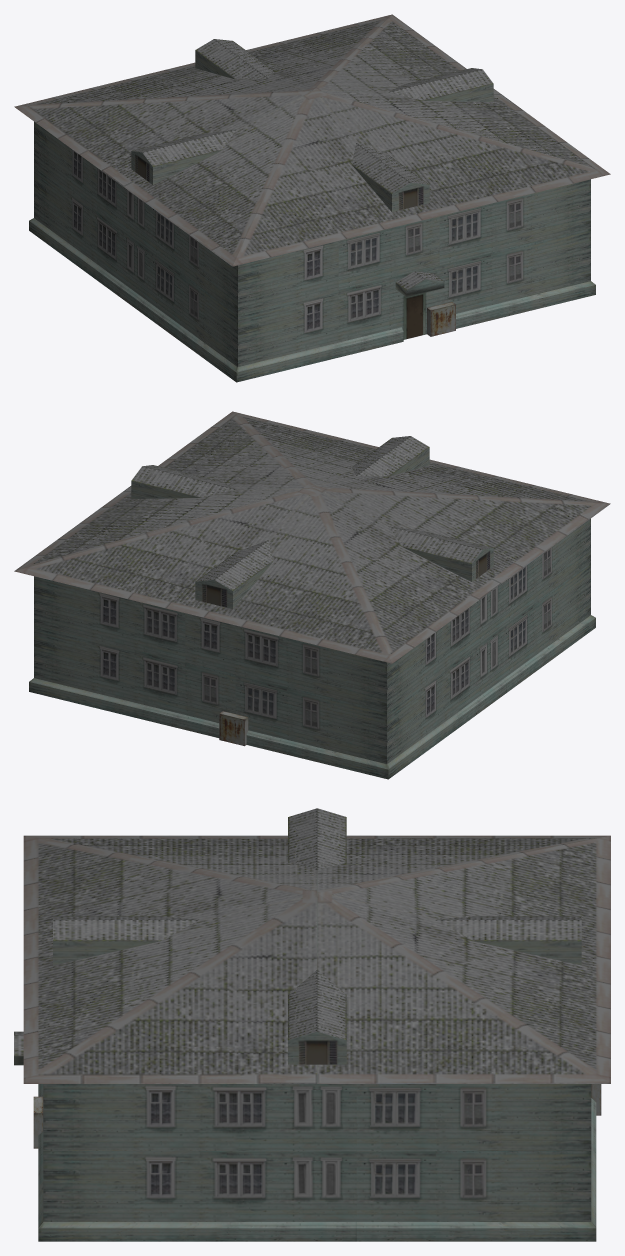
The model's file is rus_build_2et_01c.fbx.
3 views of the same model, one above another, from view 1: azimuth 30°, elevation 25°; view 2: azimuth 150°, elevation 25°; view 3: azimuth 270°, elevation 25° (orthographic). The views are drawn at different scales.
Visible parts, largest first — view 1: Regroup13; view 2: Regroup13; view 3: Regroup13.
Boxes of the visible parts, bbox=[...] form: Regroup13: bbox=[14, 14, 610, 382]; Regroup13: bbox=[14, 411, 610, 779]; Regroup13: bbox=[14, 808, 610, 1241].
Size of the model in its own units: 2100 by 910 by 2135.
